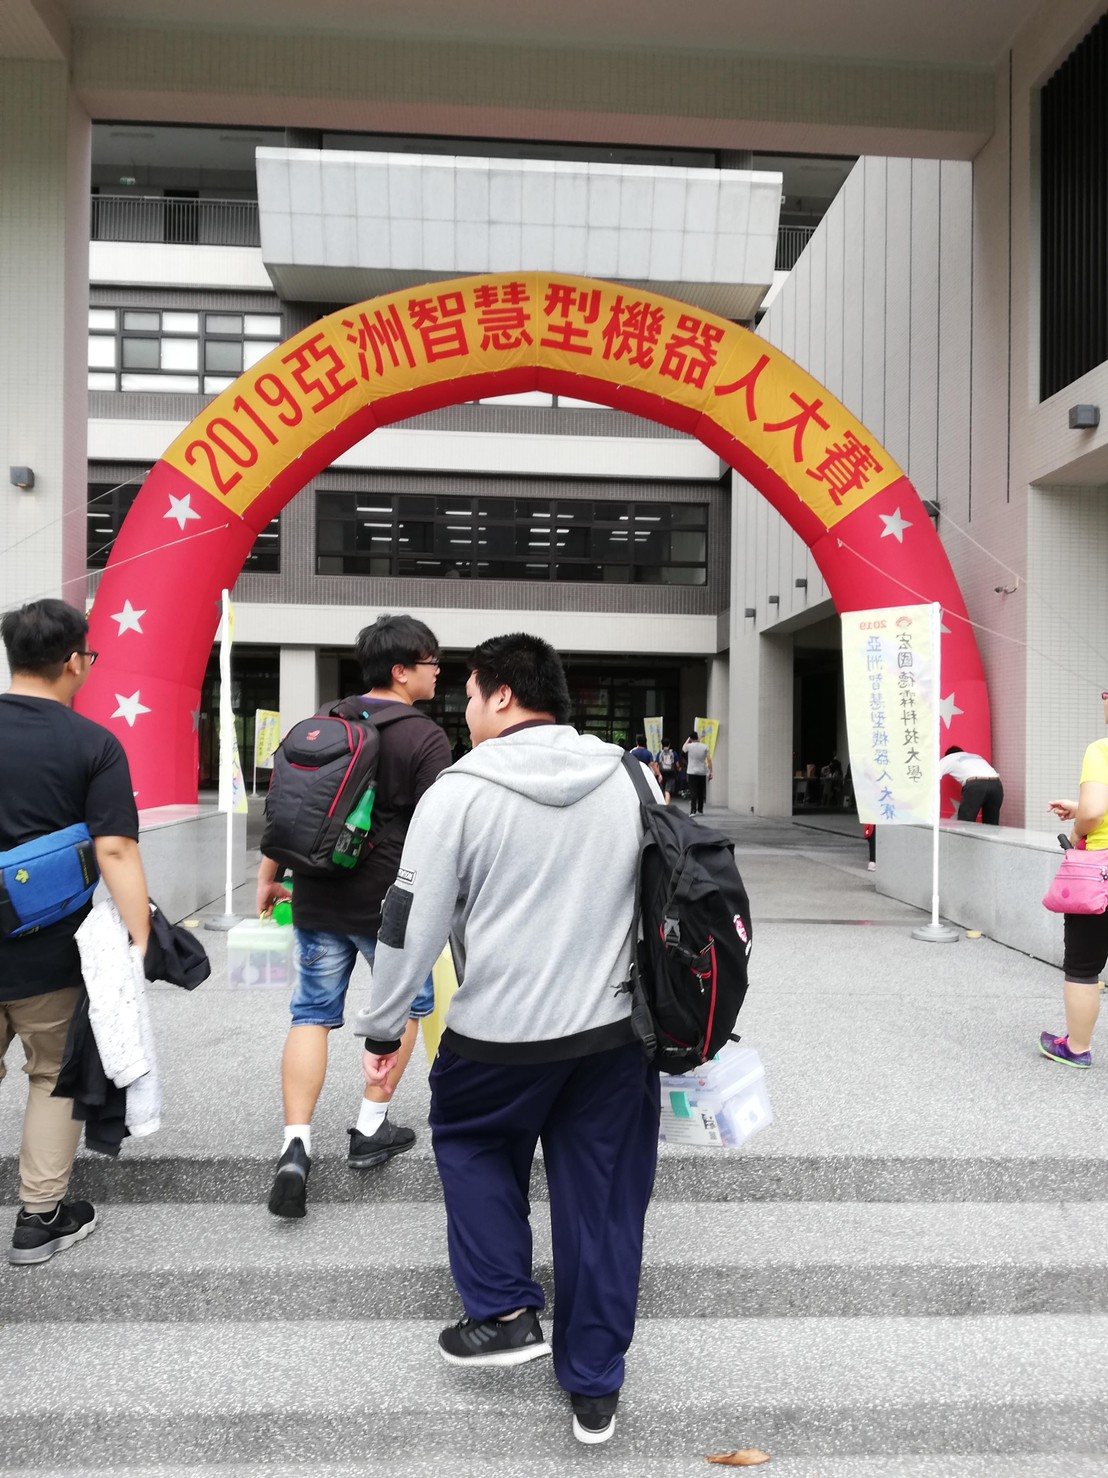people: (424, 628, 657, 1440), (283, 593, 426, 1207), (2, 581, 119, 1264), (1067, 671, 1108, 1100), (933, 728, 1000, 823), (671, 716, 721, 807)
